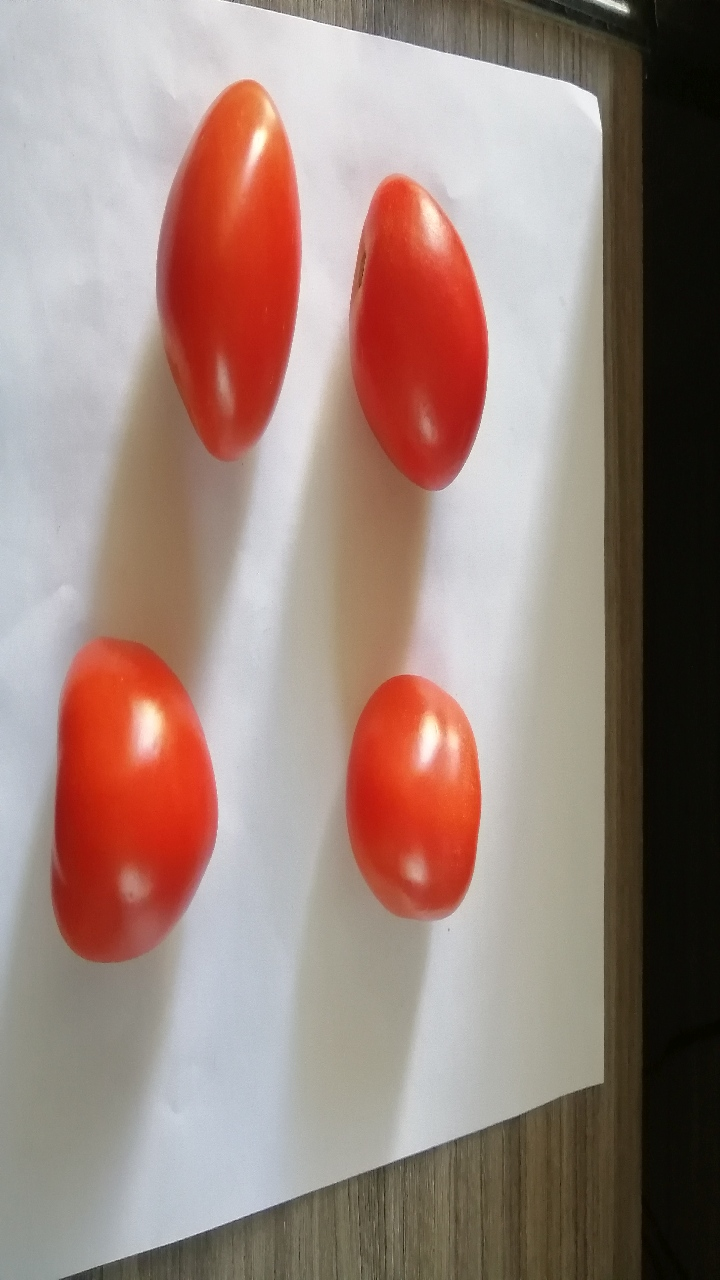tomateRojo: (129, 66, 315, 474), (34, 614, 231, 977), (337, 151, 517, 520), (335, 631, 506, 955)
